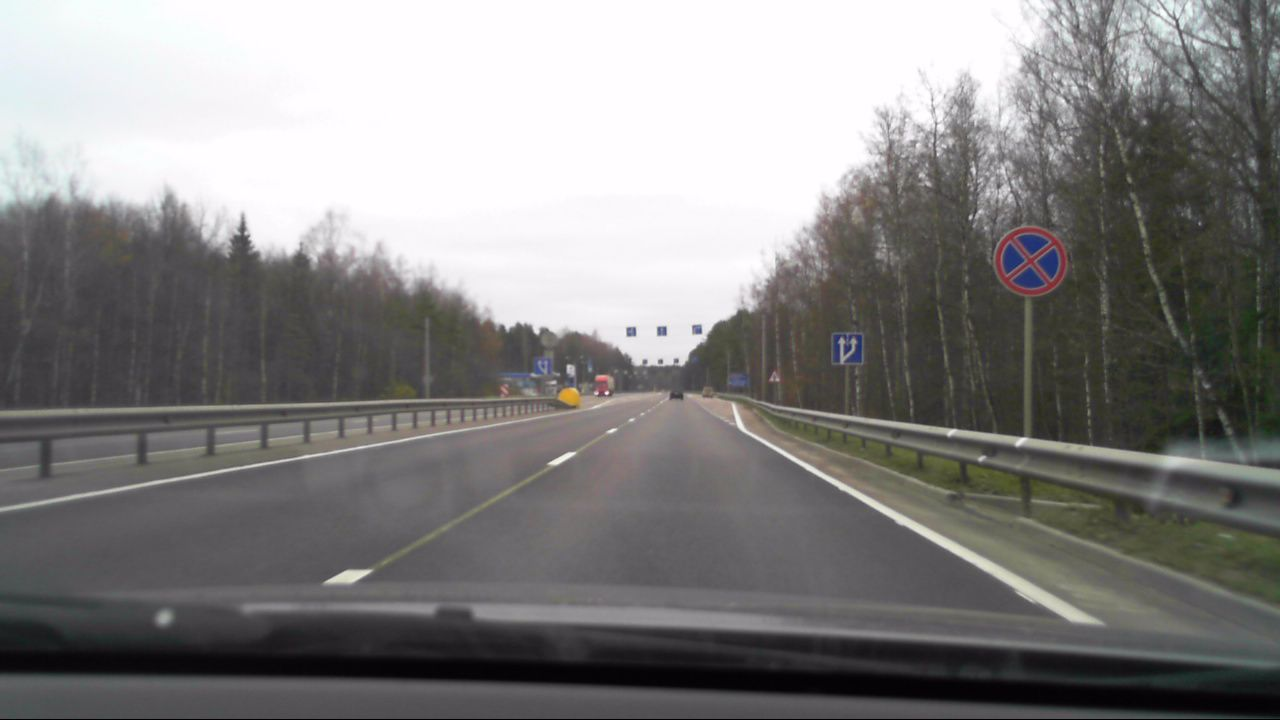No Parking: (989, 225, 1070, 302)
